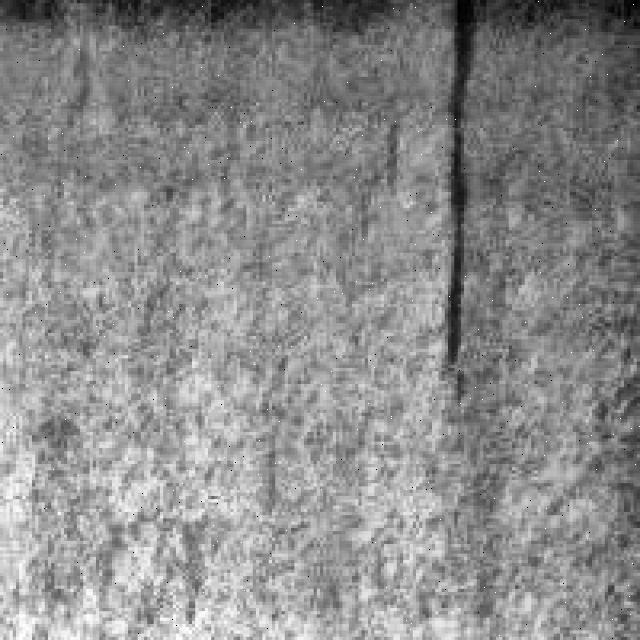Patches: (422, 0, 493, 394)
